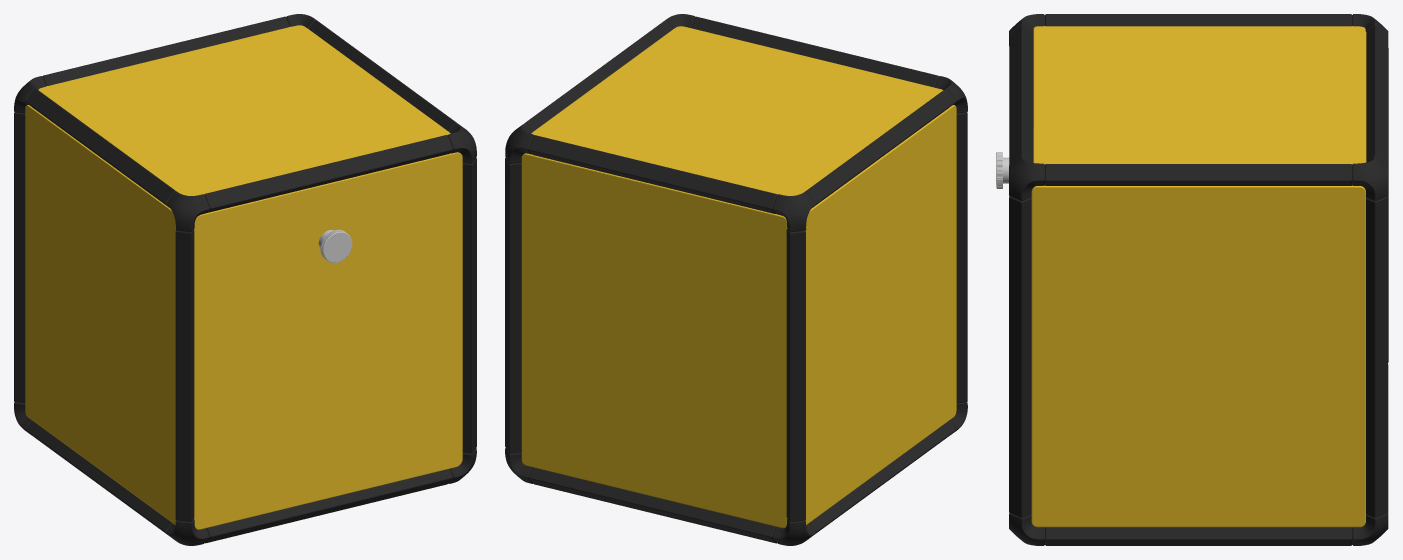
3 views of the same model, side by side, from view 1: azimuth 30°, elevation 25°; view 2: azimuth 150°, elevation 25°; view 3: azimuth 270°, elevation 25° (orthographic). The views are drawn at different scales.
Visible parts, largest first — view 1: 329x329x374; view 2: 329x329x374; view 3: 329x329x374.
Part boxes in pixels (box(x1,y1,x2,y2)): 329x329x374: box(14, 14, 476, 545); 329x329x374: box(505, 14, 967, 545); 329x329x374: box(996, 14, 1388, 545).
Bounding box in the file's own units: 0.4067 × 0.4516 × 0.4196.
